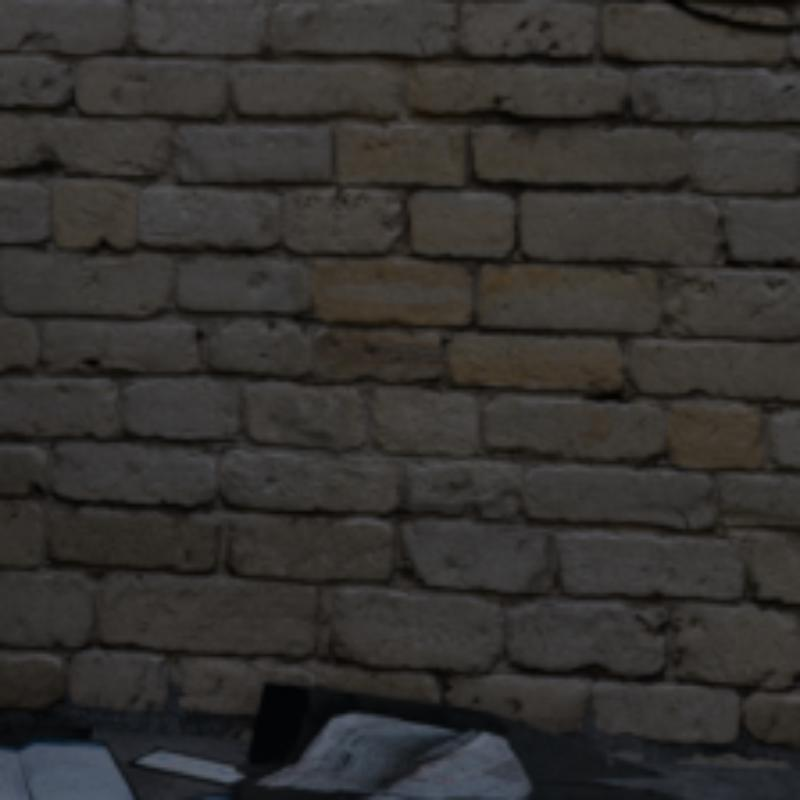crack: (664, 0, 796, 32)
